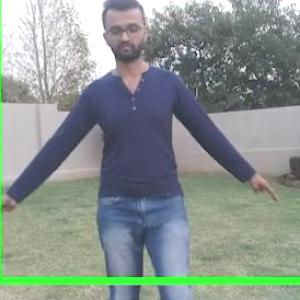land: (0, 20, 284, 299)
